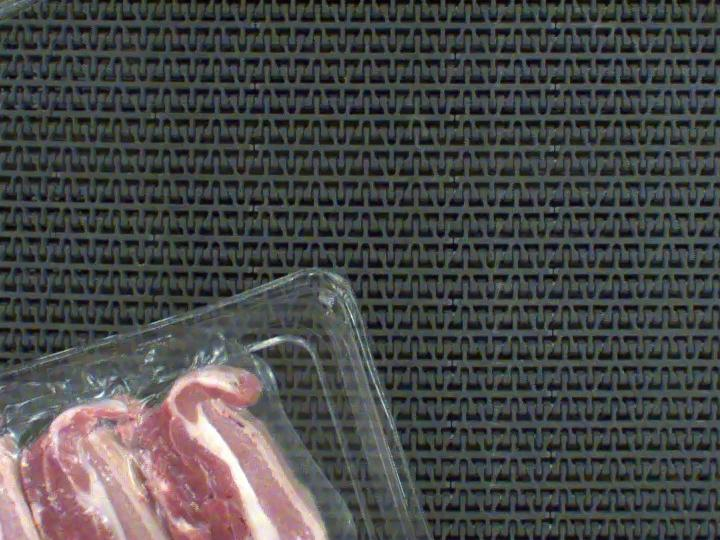unsealed: (0, 327, 396, 540)
